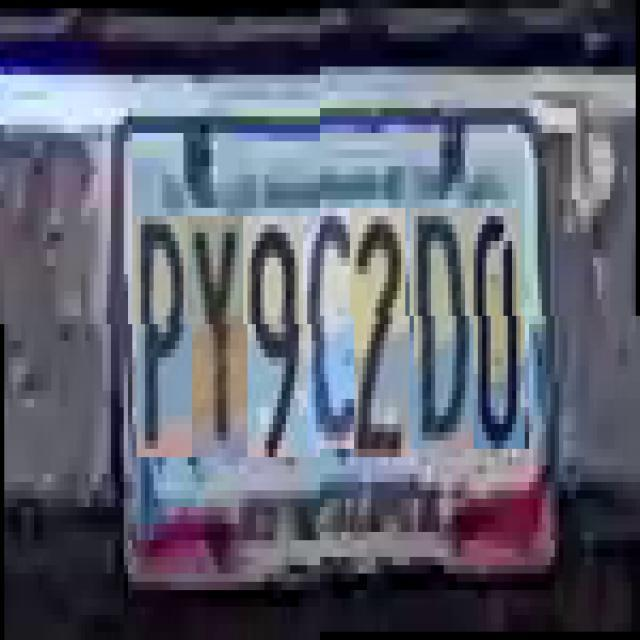0: (474, 216, 524, 457)
2: (354, 216, 410, 466)
9: (248, 216, 308, 457)
C: (307, 216, 363, 457)
D: (414, 216, 474, 457)
P: (137, 216, 192, 457)
Y: (192, 216, 247, 457)
